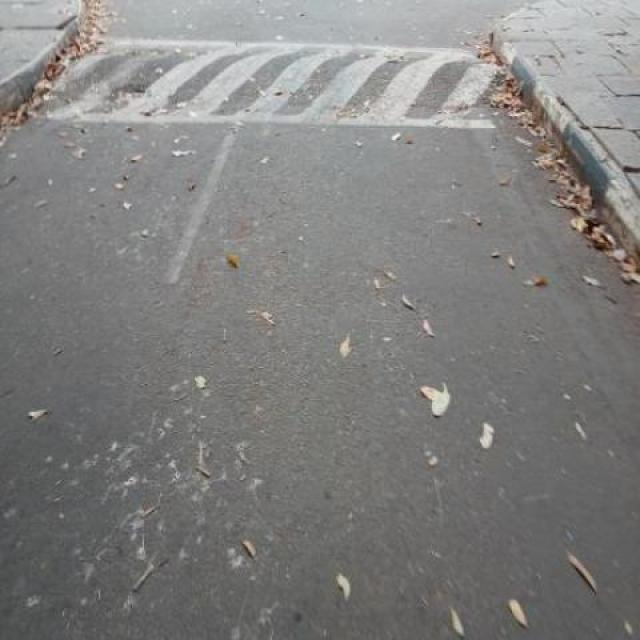Speed Bump: (43, 34, 518, 124)
